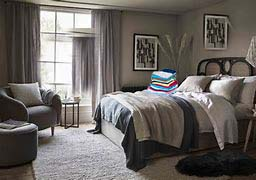copymove: (201, 12, 229, 50)
removal: (73, 31, 101, 90)
spliced: (148, 68, 178, 95)
